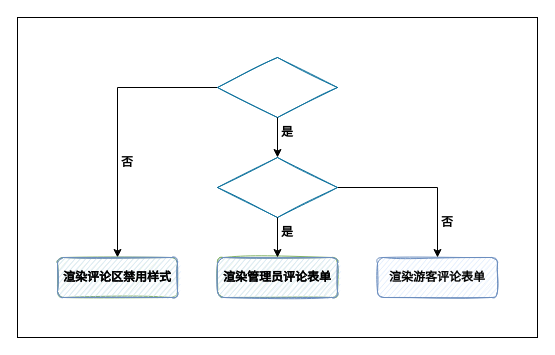
This 555x355 diagram has some shape labels left out. Here are the shapes that lost their labels. From the top down, the centre of each, then its label:
[277,87]: 文章是否 可以评论
[277,187]: 是否登录
